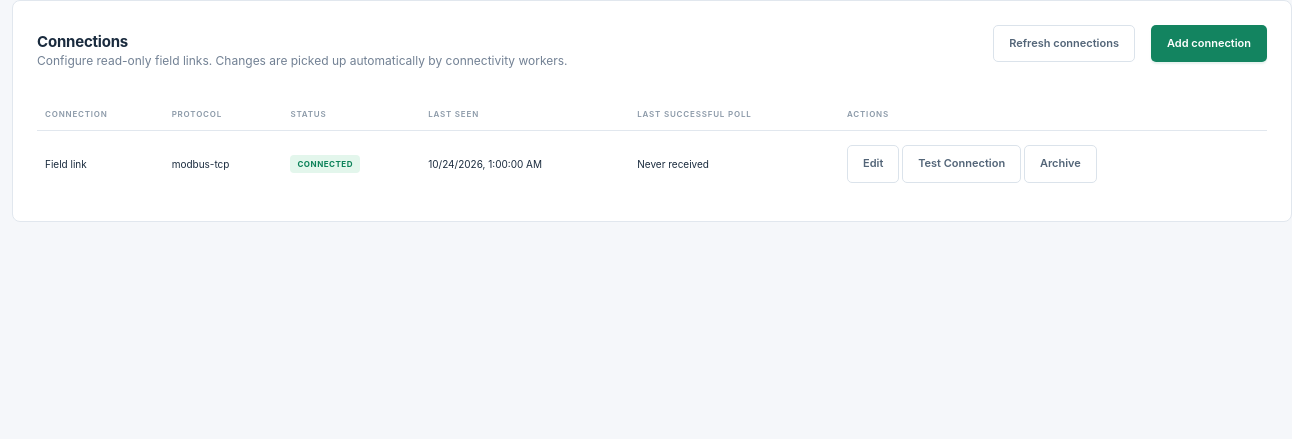
Scenario: archives only after explicit confirmation and retains history
Step 1. Click the button with aria-label "Archive Field link" → [1060, 164], box 1024,145 -> 1097,183
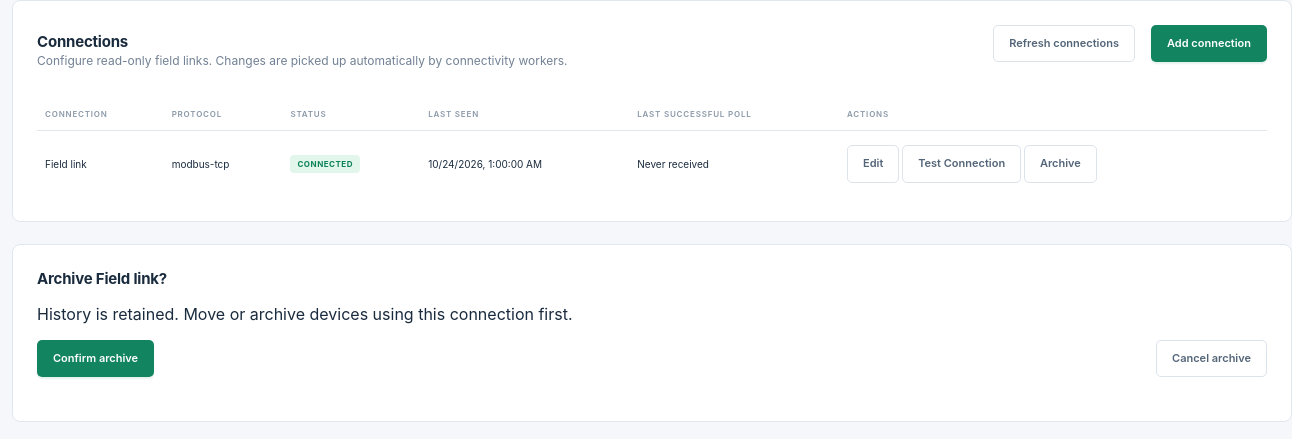
Step 2. Click the button "Confirm archive" → [96, 358], box 37,340 -> 154,377
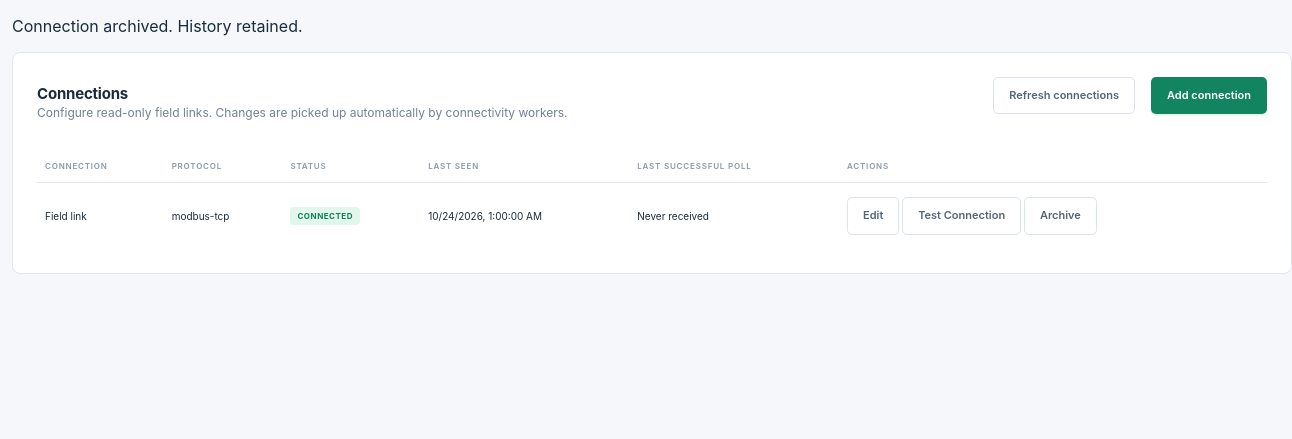
Check: the text "Connection archived. History retained." is shown, box 12,16 -> 302,36
